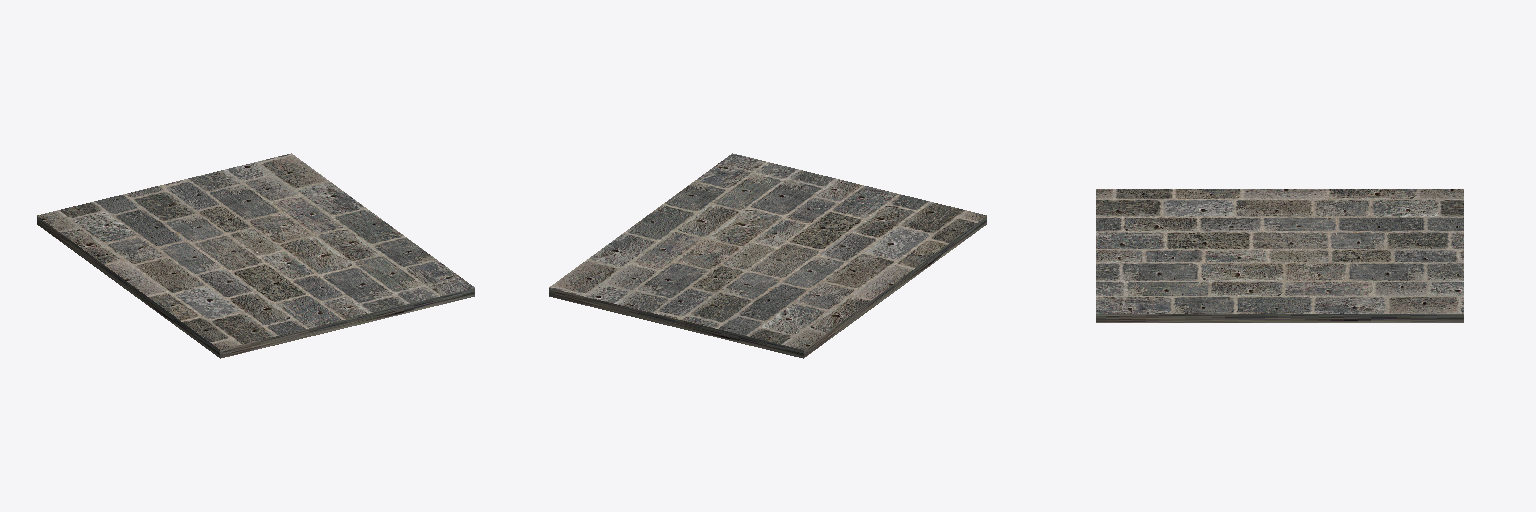
3 views of the same model, side by side, from view 1: azimuth 30°, elevation 25°; view 2: azimuth 150°, elevation 25°; view 3: azimuth 270°, elevation 25° (orthographic).
Visible parts, largest first — view 1: Podlaha_Cube; view 2: Podlaha_Cube; view 3: Podlaha_Cube.
Part boxes in pixels (left/top/right/bottom): Podlaha_Cube: left=37, top=153, right=474, bottom=358; Podlaha_Cube: left=549, top=153, right=986, bottom=358; Podlaha_Cube: left=1096, top=189, right=1463, bottom=322.
Bounding box in the file's own units: 12.63 × 0.4117 × 15.77.
1 materials, 1 textured.